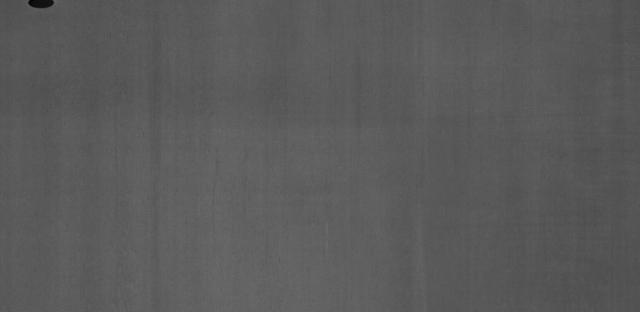punching_hole: (22, 0, 59, 12)
